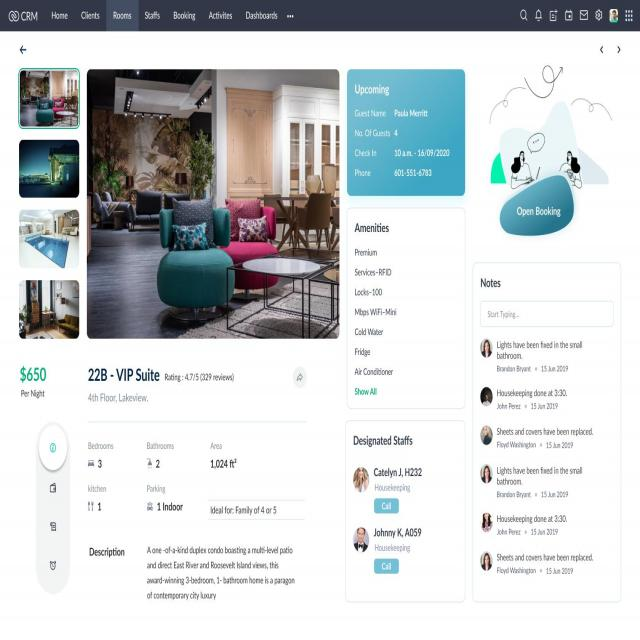button: (374, 557, 400, 575), (374, 499, 400, 514)
input: (480, 300, 613, 327)
